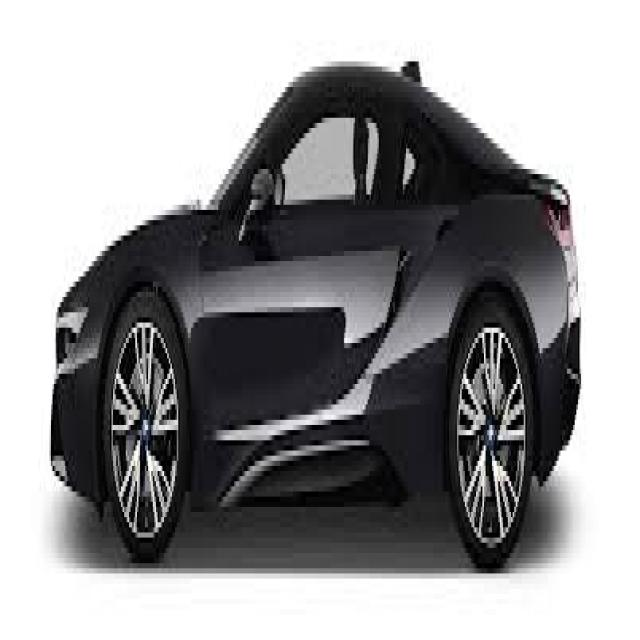Car: (46, 55, 582, 586)
